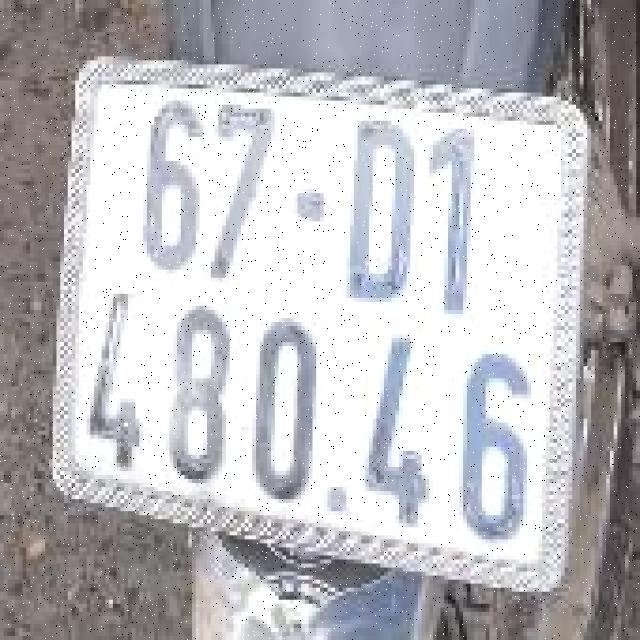0: (241, 302, 324, 519)
1: (426, 119, 490, 336)
4: (356, 322, 435, 543), (82, 284, 150, 481)
6: (446, 346, 544, 564), (140, 92, 203, 266)
7: (214, 98, 278, 276)
8: (160, 288, 235, 485)
D: (331, 107, 422, 312)
